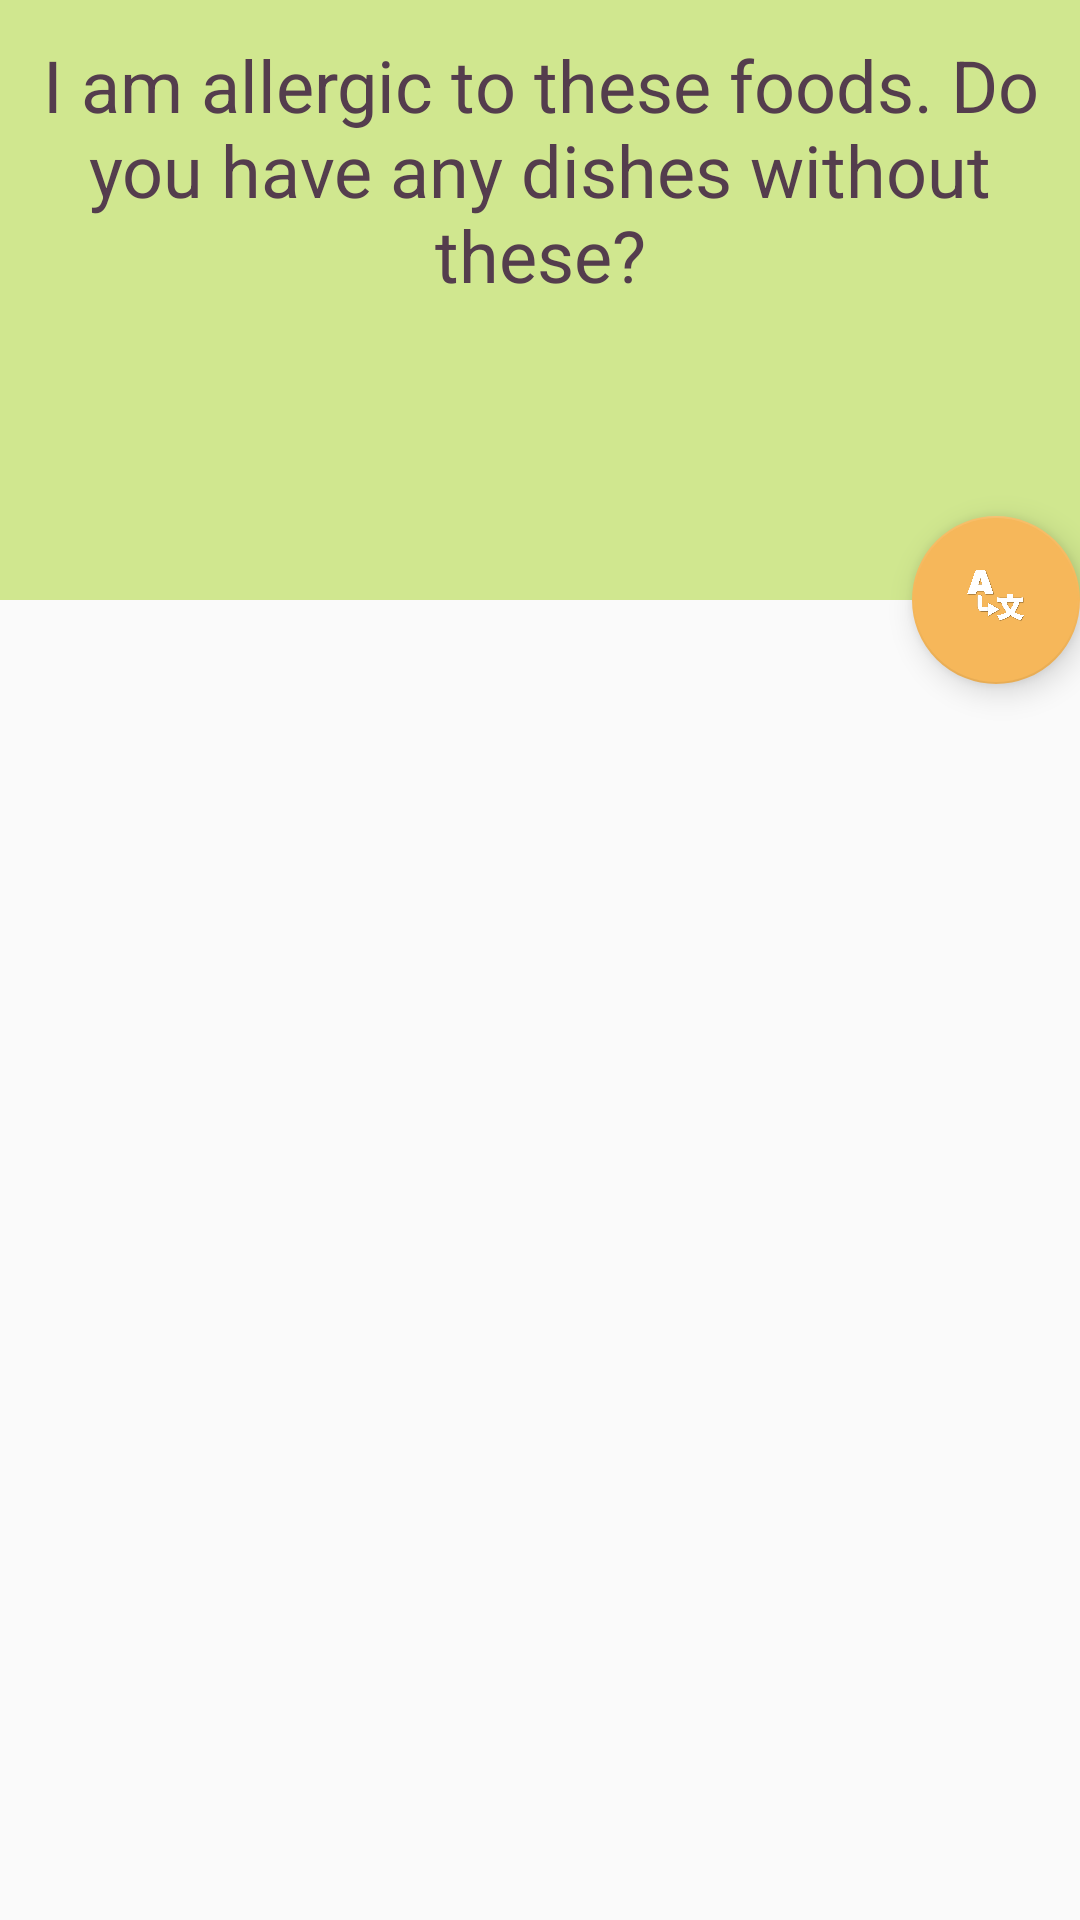

Icon click points for this 1080w x 1920h phone screenshot, format (x=x, y=y):
translatehdpi: (x=996, y=600)
